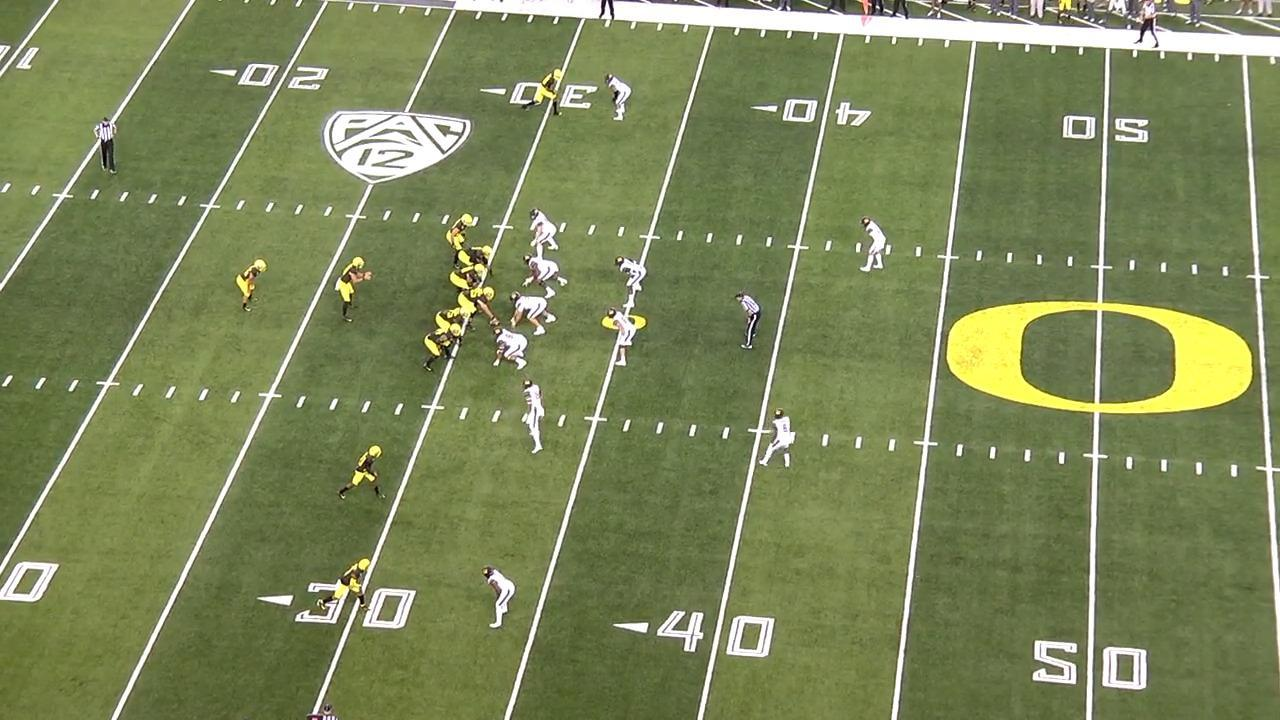defense: (482, 563, 519, 632), (757, 406, 796, 471), (604, 305, 641, 370), (511, 292, 562, 339), (522, 375, 551, 457), (523, 254, 572, 300), (528, 204, 566, 258), (490, 324, 532, 372), (856, 214, 888, 274), (616, 255, 649, 312), (605, 72, 636, 124)
oline: (420, 325, 464, 374), (431, 306, 476, 349), (459, 286, 500, 329), (446, 264, 489, 302), (459, 245, 496, 274)
qb: (335, 255, 373, 327)
ref: (738, 291, 768, 354), (90, 116, 120, 178), (1131, 0, 1163, 48), (592, 0, 620, 23)
skill: (314, 553, 376, 611), (335, 441, 385, 503), (522, 67, 563, 118), (233, 257, 266, 315), (442, 212, 478, 265)
